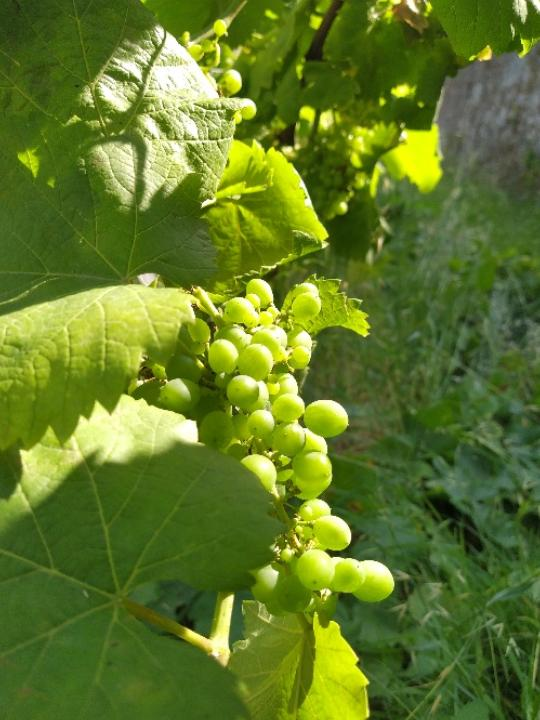grape: (126, 275, 401, 616)
